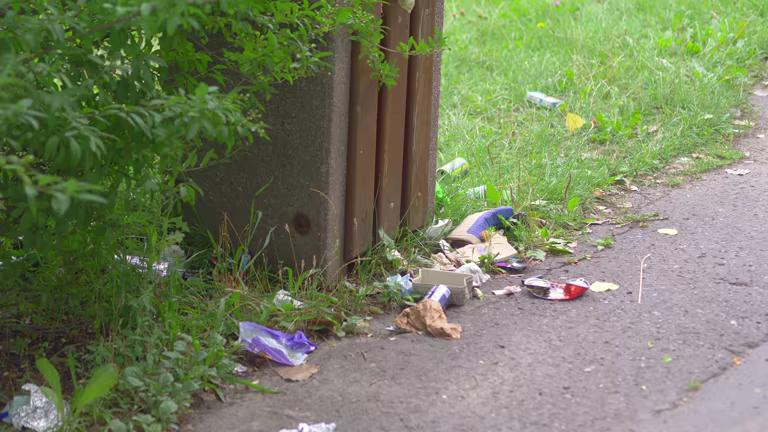trash: (408, 250, 514, 326), (100, 239, 262, 288), (422, 222, 540, 282), (441, 192, 519, 257), (227, 313, 315, 366), (1, 370, 72, 431), (510, 270, 626, 304), (268, 283, 336, 329), (395, 302, 457, 347), (432, 149, 473, 192), (382, 256, 417, 304), (447, 181, 502, 210), (522, 82, 568, 114), (417, 280, 453, 318), (380, 234, 411, 272)
